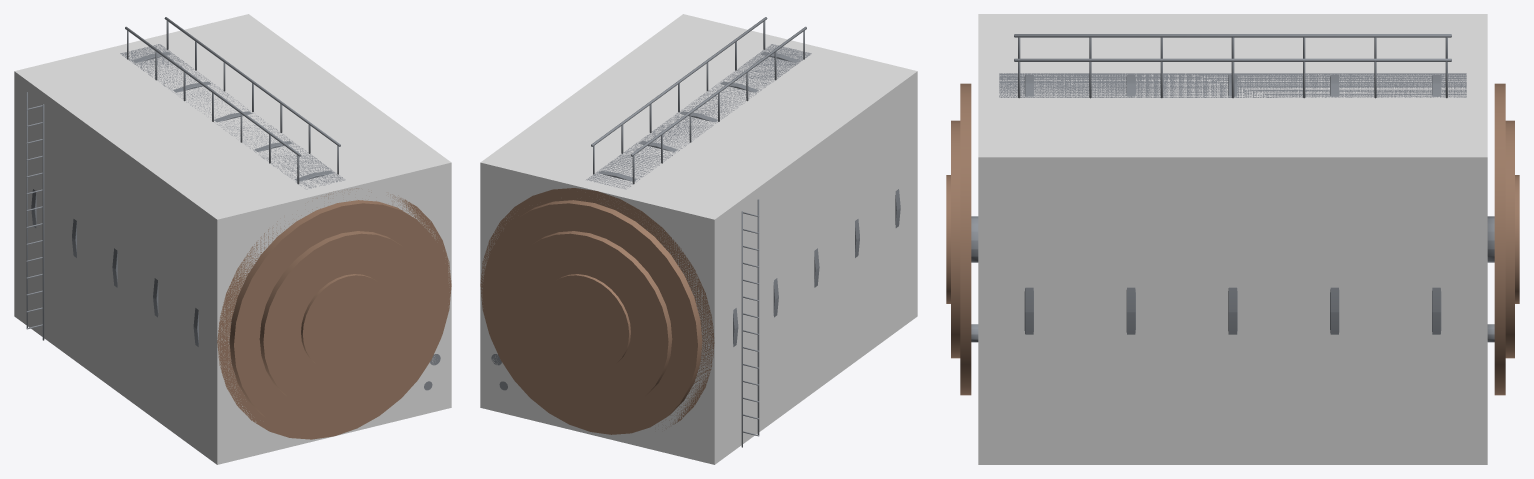
Rendered from tank.glb.
3 renders of one model, left to right at view 1: azimuth 30°, elevation 25°; view 2: azimuth 150°, elevation 25°; view 3: azimuth 270°, elevation 25°, orthographic. The views are drawn at different scales.
Parts seen in each view (by area): view 1: COL_tank, tank; view 2: COL_tank, tank; view 3: COL_tank, tank.
Part boxes in pixels (left/top/right/bottom): COL_tank: left=14, top=14, right=451, bottom=464; tank: left=26, top=17, right=451, bottom=439; COL_tank: left=480, top=14, right=917, bottom=464; tank: left=480, top=17, right=900, bottom=447; COL_tank: left=978, top=14, right=1487, bottom=464; tank: left=946, top=34, right=1519, bottom=395.
Size of the model in its own units: 8.61 by 9.08 by 13.52.
